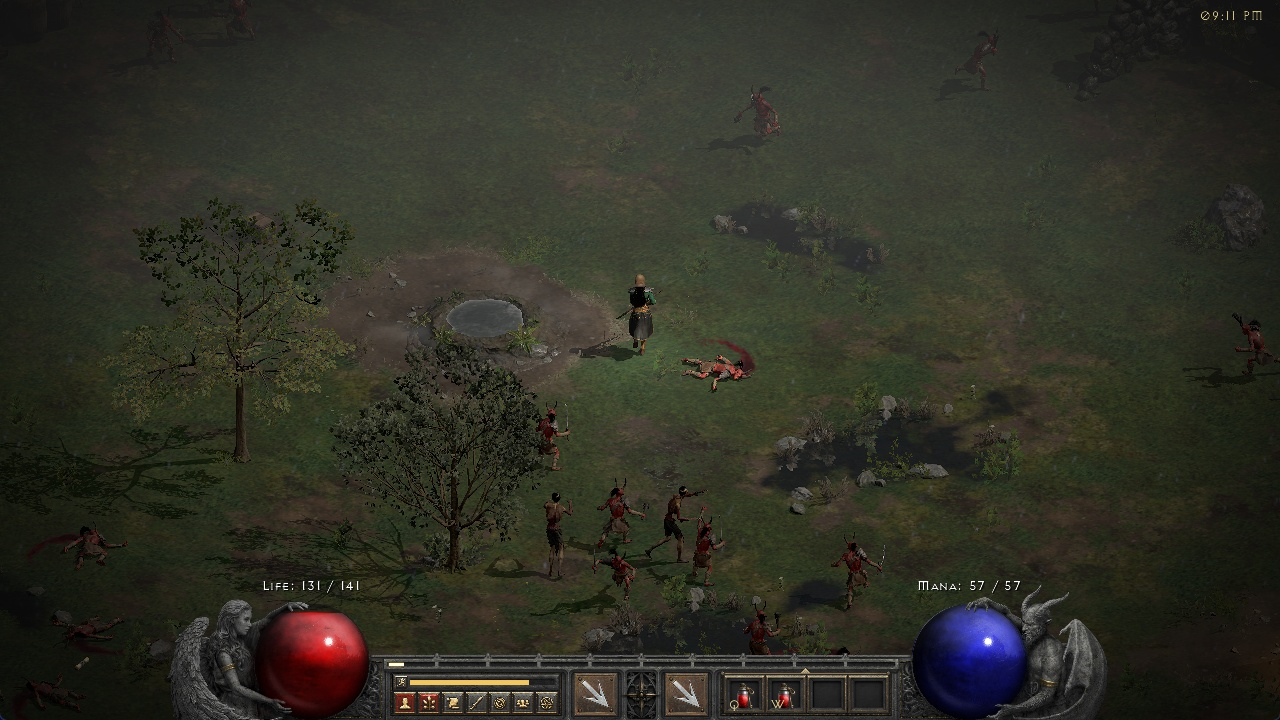fallen: (821, 533, 902, 608), (958, 30, 1016, 95), (526, 396, 580, 463), (731, 79, 783, 148), (688, 516, 737, 587), (1223, 312, 1280, 372), (593, 553, 653, 605), (735, 599, 789, 654), (141, 11, 196, 65), (599, 481, 645, 545), (225, 1, 267, 40)
